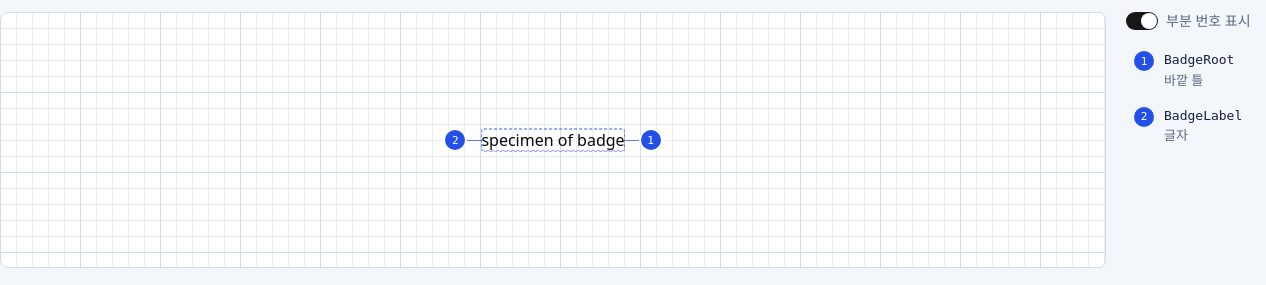
it: hides the markers but keeps the list when the toggle is off
Click the switch named "부분 번호 표시" at {"x": 1142, "y": 21}, box [1126,12,1158,30]
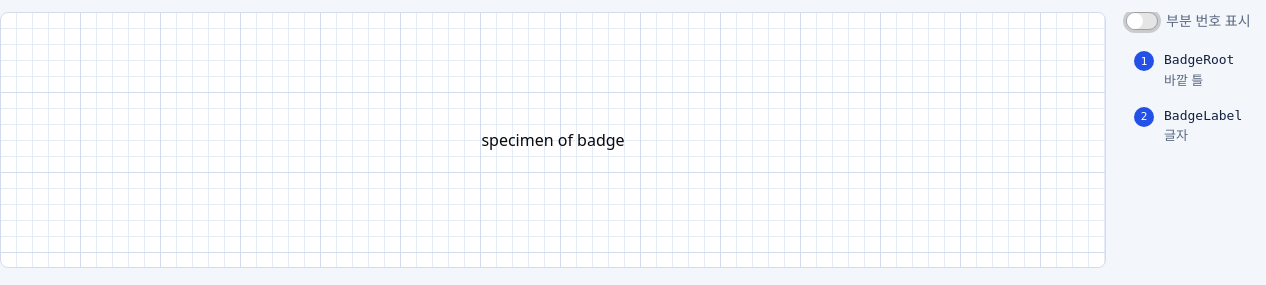
Expected: the list named "부분 이름" is shown, [1134,51,1242,144]
Result: no elements with test id "anatomy-marker" are shown
